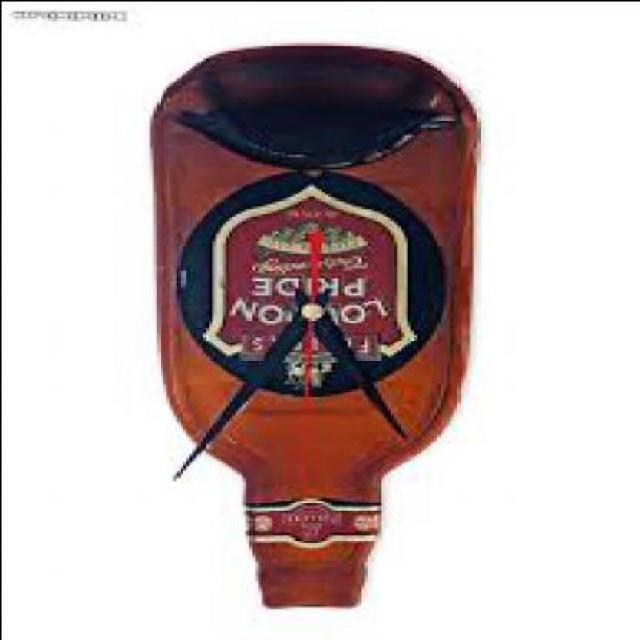GLASS: (152, 47, 479, 610)
